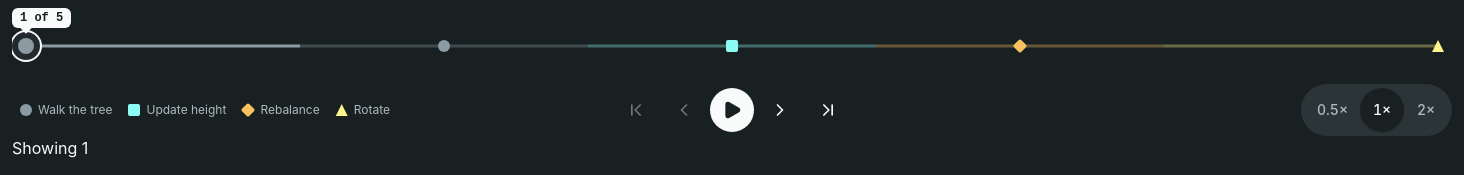
steps with the arrow keys and plays with Space
Click the button with aria-label "Step 1 of 5, Walk the tree" at point(156, 46), box [12,24,300,68]
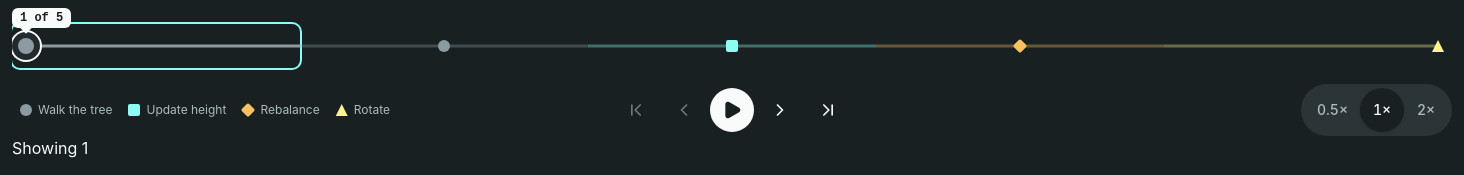
Press Arrowright Arrowright
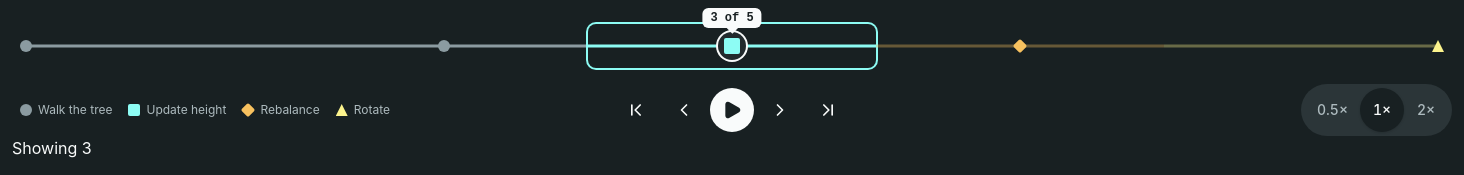
Check: the text "Showing 3" is shown, box [12,138,92,158]
Click the button named "Forward one step" at point(780, 110), box [758,88,802,132]
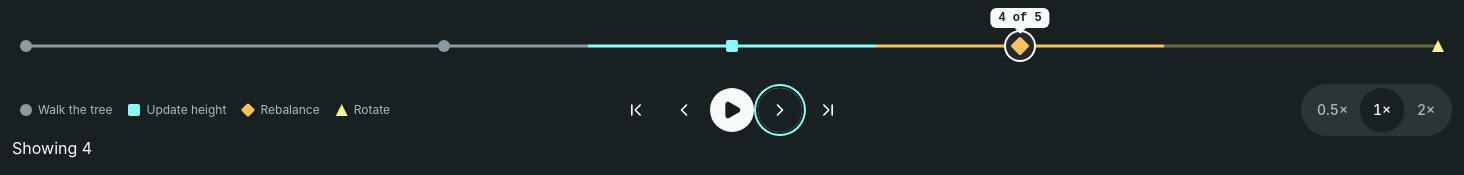
Check: the text "Showing 4" is shown, box [12,138,92,158]
Type keys " "
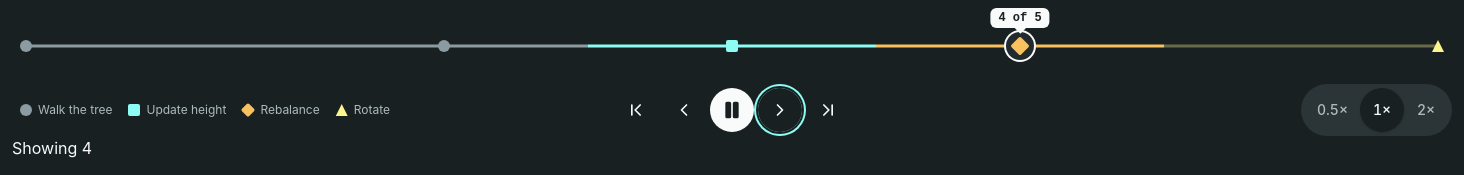
Check: the text "Showing 4" is shown, box [12,138,92,158]
Check: the button named "Pause" is shown, box [710,88,754,132]
